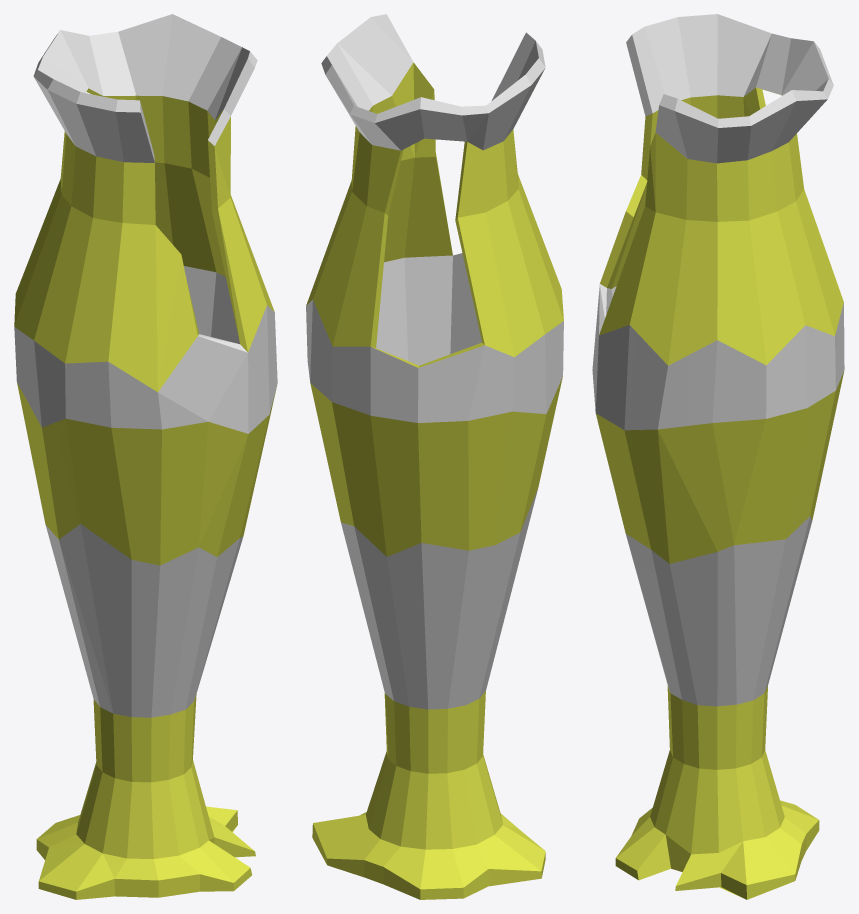
File: Vase_L_3.fbx
The picture shows the model from 3 angles, left to right: view 1: azimuth 30°, elevation 25°; view 2: azimuth 150°, elevation 25°; view 3: azimuth 270°, elevation 25°; orthographic projection.
Parts seen in each view (by area): view 1: Vase_L_3; view 2: Vase_L_3; view 3: Vase_L_3.
Part boxes in pixels (bbox=[...]): Vase_L_3: bbox=[14, 14, 277, 899]; Vase_L_3: bbox=[306, 14, 563, 899]; Vase_L_3: bbox=[592, 14, 844, 899].
Size of the model in its own units: 0.1646 by 0.5761 by 0.1665.
